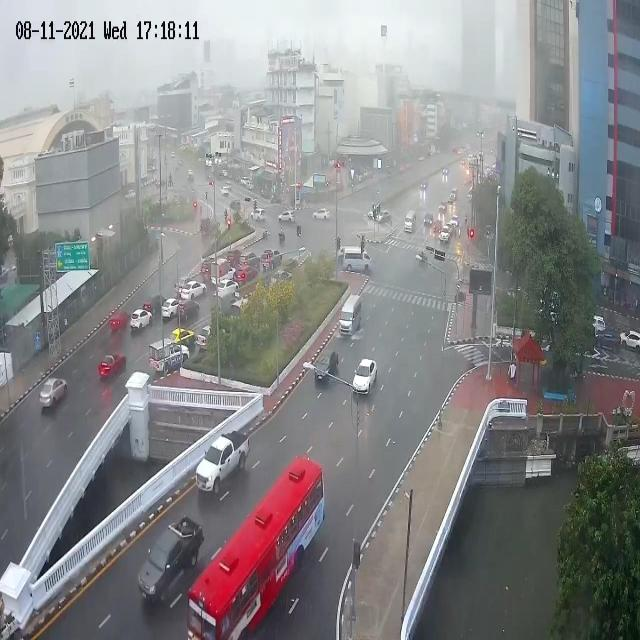Bus: (187, 457, 325, 640), (338, 294, 362, 333), (343, 247, 372, 273)
Car: (137, 515, 204, 602), (196, 426, 252, 493), (351, 357, 380, 400), (149, 342, 192, 370), (38, 375, 68, 413), (313, 350, 339, 387), (99, 350, 127, 382), (210, 258, 234, 286), (129, 309, 152, 334), (176, 299, 200, 322), (260, 248, 282, 273), (107, 308, 128, 334), (180, 281, 207, 299), (142, 292, 166, 312), (214, 279, 238, 299), (161, 296, 180, 320), (235, 265, 257, 283), (238, 251, 262, 265), (440, 226, 450, 243), (424, 212, 434, 227), (419, 180, 429, 192), (433, 222, 442, 234), (438, 201, 446, 211), (442, 167, 449, 175)
Van: (403, 209, 417, 234)
